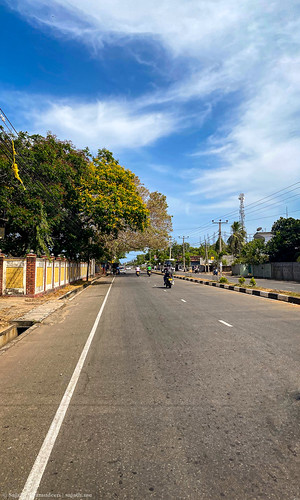sky: (1, 1, 300, 199)
street: (5, 280, 297, 500)
tree: (1, 131, 158, 264)
